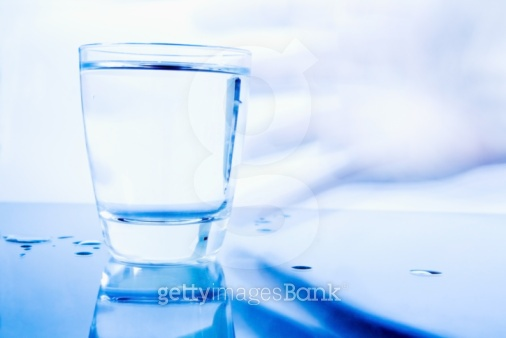glass of water: (75, 41, 247, 260)
